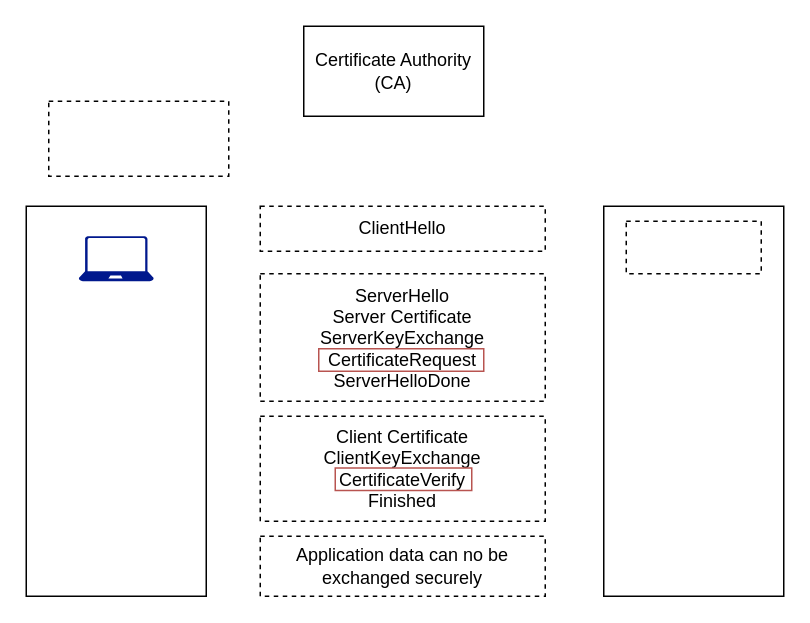
This 810x623 diagram has some shape labels left out. The centre of each missing label's shape, as x and y in pixels:
"Client checks if certificate can be trusted" belongs at (x=138, y=138).
"Server" belongs at (x=693, y=247).
